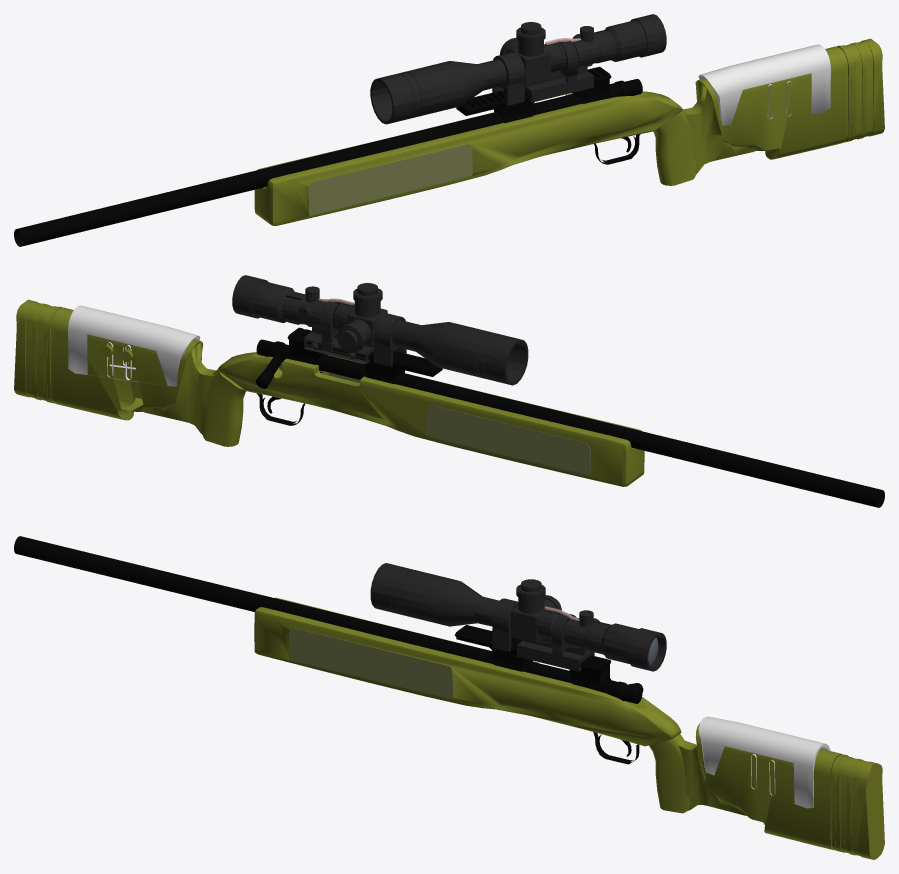
3 renders of one model, top to bottom at view 1: azimuth 30°, elevation 25°; view 2: azimuth 150°, elevation 25°; view 3: azimuth 330°, elevation 25°, orthographic.
Visible parts, largest first — view 1: m40a3, m40a3_x16scope, m40a3_cheekwell, m40a3_TA31RCO_Acog, m40a3_bolt; view 2: m40a3, m40a3_x16scope, m40a3_cheekwell, m40a3_TA31RCO_Acog, m40a3_bolt; view 3: m40a3, m40a3_x16scope, m40a3_cheekwell, m40a3_TA31RCO_Acog, m40a3_bolt.
Boxes of the visible parts, x1,y1,x2,y2 form: m40a3: [14, 38, 884, 246]; m40a3_x16scope: [370, 14, 666, 124]; m40a3_cheekwell: [698, 44, 830, 125]; m40a3_TA31RCO_Acog: [524, 26, 610, 102]; m40a3_bolt: [532, 79, 642, 114]; m40a3: [14, 299, 884, 507]; m40a3_x16scope: [232, 275, 528, 385]; m40a3_cheekwell: [68, 305, 200, 386]; m40a3_TA31RCO_Acog: [286, 286, 373, 363]; m40a3_bolt: [255, 339, 366, 388]; m40a3: [14, 536, 884, 859]; m40a3_x16scope: [370, 563, 666, 671]; m40a3_cheekwell: [698, 716, 830, 808]; m40a3_TA31RCO_Acog: [517, 606, 611, 671]; m40a3_bolt: [528, 662, 643, 703].
Bounding box in the file's own units: 112 × 23.79 × 7.9.
